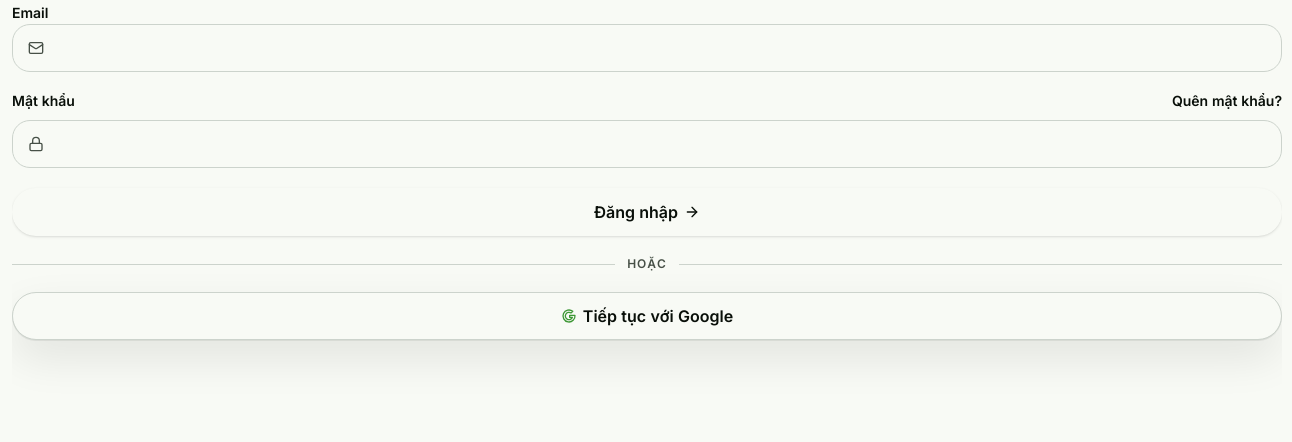
LoginForm › shows a safe error for invalid credentials
The width and height of the screenshot is (1292, 442).
Type "unknown@gymmaster.local" into the field labelled "Email".
click(647, 48); type("unknown@gymmaster.local")  # box [12,24,1282,72]
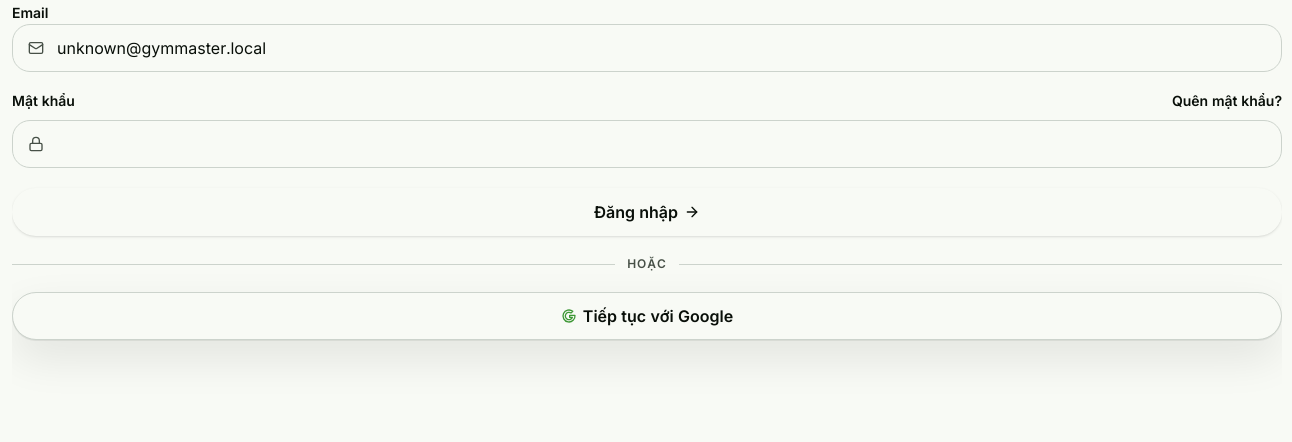
Type "wrong" into the password field labelled "Mật khẩu".
click(647, 144); type("wrong")  # box [12,120,1282,168]
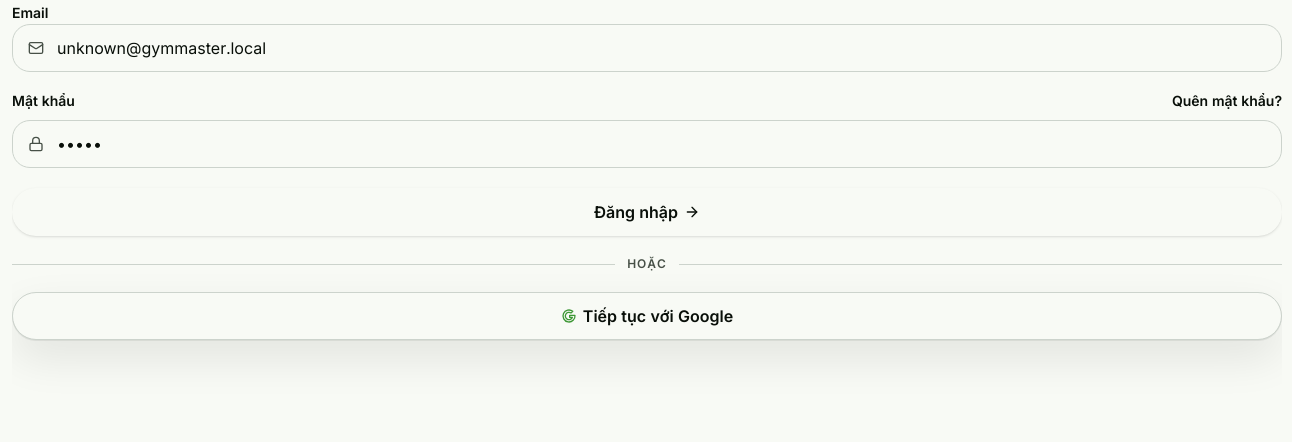
Click the button "Đăng nhập".
click(647, 212)  # box [12,188,1282,236]
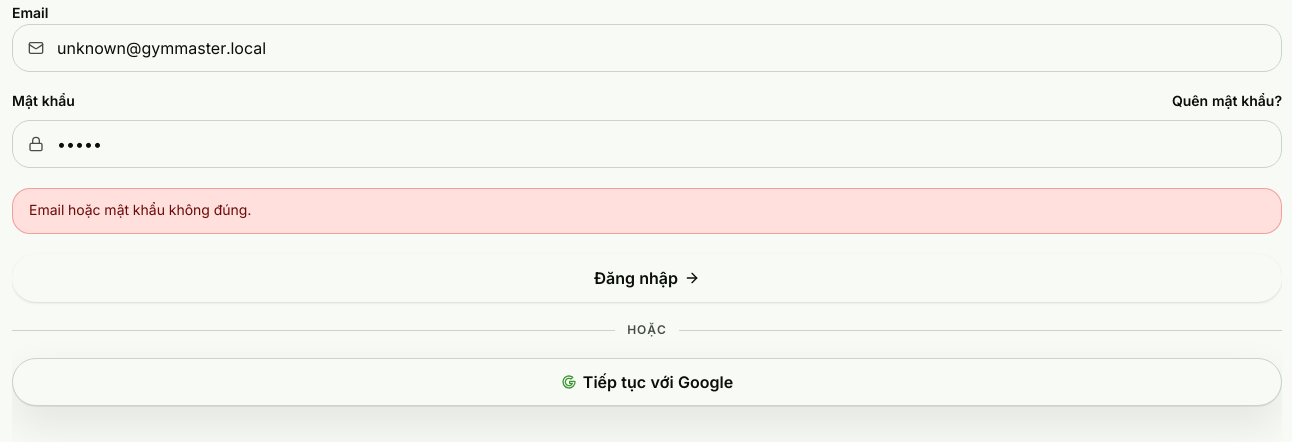
Expected: the text "Email hoặc mật khẩu không đúng." is shown, [12,188,1282,234]
